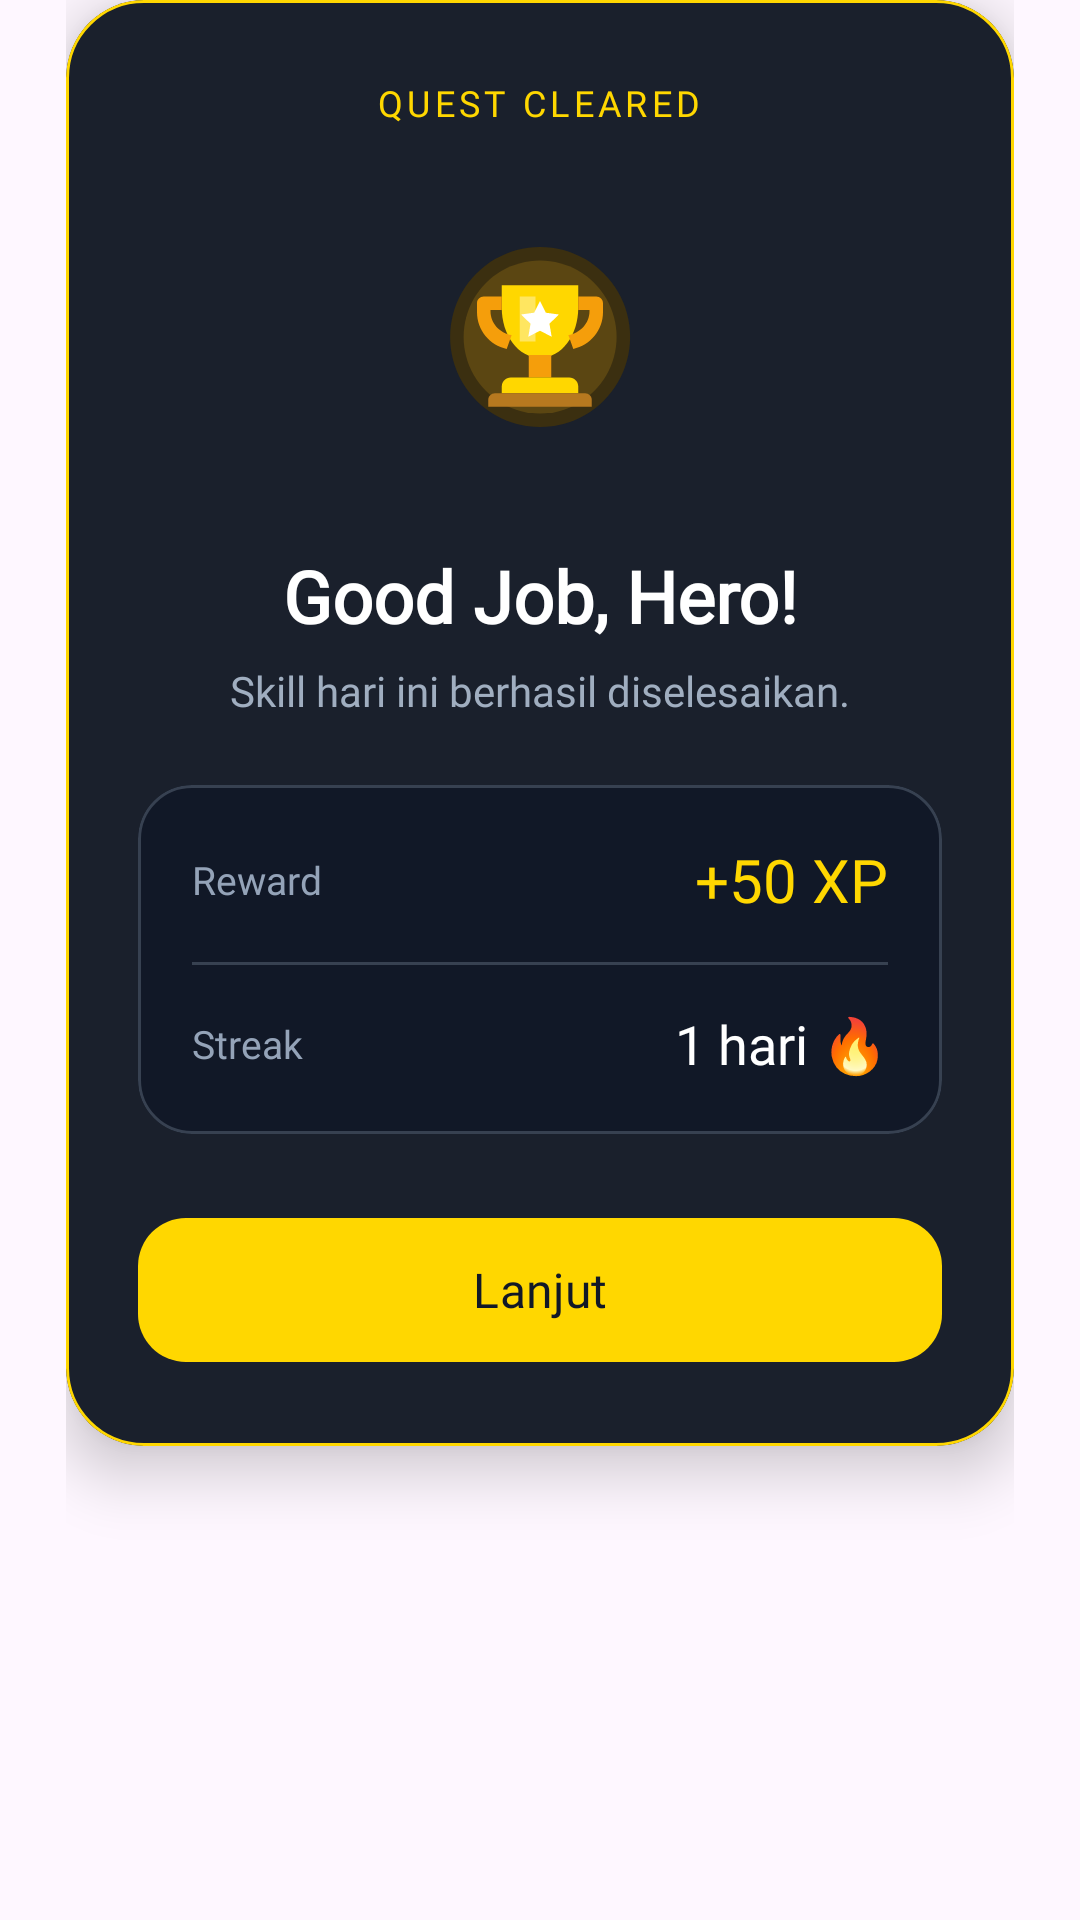

Screen size 1080 × 1920. Icon name, then its center in pixels as (x=x, y=y):
success trophy: (x=540, y=337)
